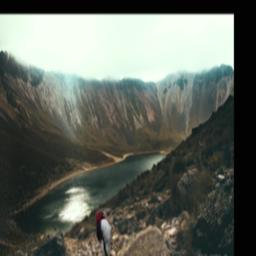Woodpecker: (97, 209, 113, 256)
